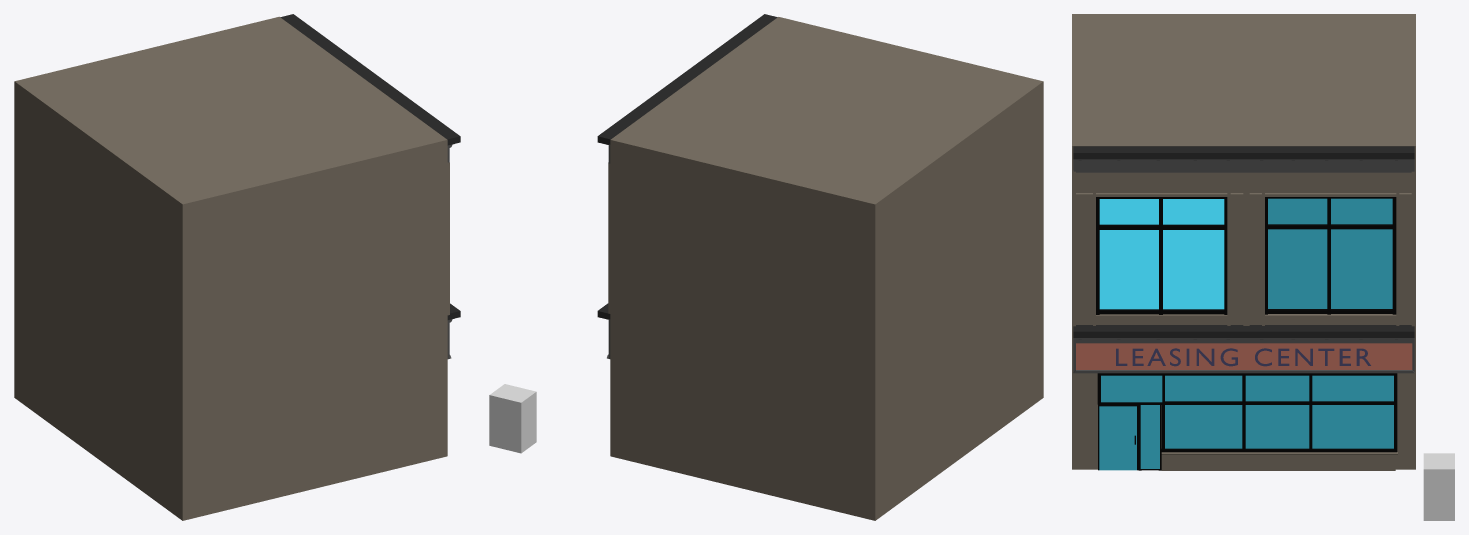
The model's file is CapstoneBuilding.fbx.
The picture shows the model from 3 angles, left to right: view 1: azimuth 30°, elevation 25°; view 2: azimuth 150°, elevation 25°; view 3: azimuth 270°, elevation 25°; orthographic projection. The views are drawn at different scales.
Visible parts, largest first — view 1: building, roof panel; view 2: building, 6ft person reference, roof panel; view 3: building, right window cutout.003, right window cutout, left window cut out, roof panel, leasing center sign, building lines, roof panel.001, bottom window frame, black thing.002, right window frame, left window frame (+7 smaller).
Part boxes in pixels (left/top/right/bottom): building: left=14, top=16, right=447, bottom=520; roof panel: left=280, top=14, right=460, bottom=162; building: left=610, top=17, right=1043, bottom=520; 6ft person reference: left=489, top=384, right=536, bottom=453; roof panel: left=597, top=14, right=777, bottom=163; building: left=1072, top=14, right=1415, bottom=469; right window cutout.003: left=1165, top=375, right=1393, bottom=448; right window cutout: left=1268, top=198, right=1392, bottom=308; left window cut out: left=1099, top=199, right=1224, bottom=309; roof panel: left=1073, top=146, right=1414, bottom=172; leasing center sign: left=1076, top=343, right=1412, bottom=369; building lines: left=1073, top=170, right=1414, bottom=326; roof panel.001: left=1073, top=325, right=1414, bottom=340; bottom window frame: left=1097, top=373, right=1397, bottom=470; black thing.002: left=1161, top=455, right=1395, bottom=470; right window frame: left=1096, top=197, right=1227, bottom=314; left window frame: left=1265, top=197, right=1396, bottom=314.
Size of the model in its own units: 1385 by 1143 by 1224.
